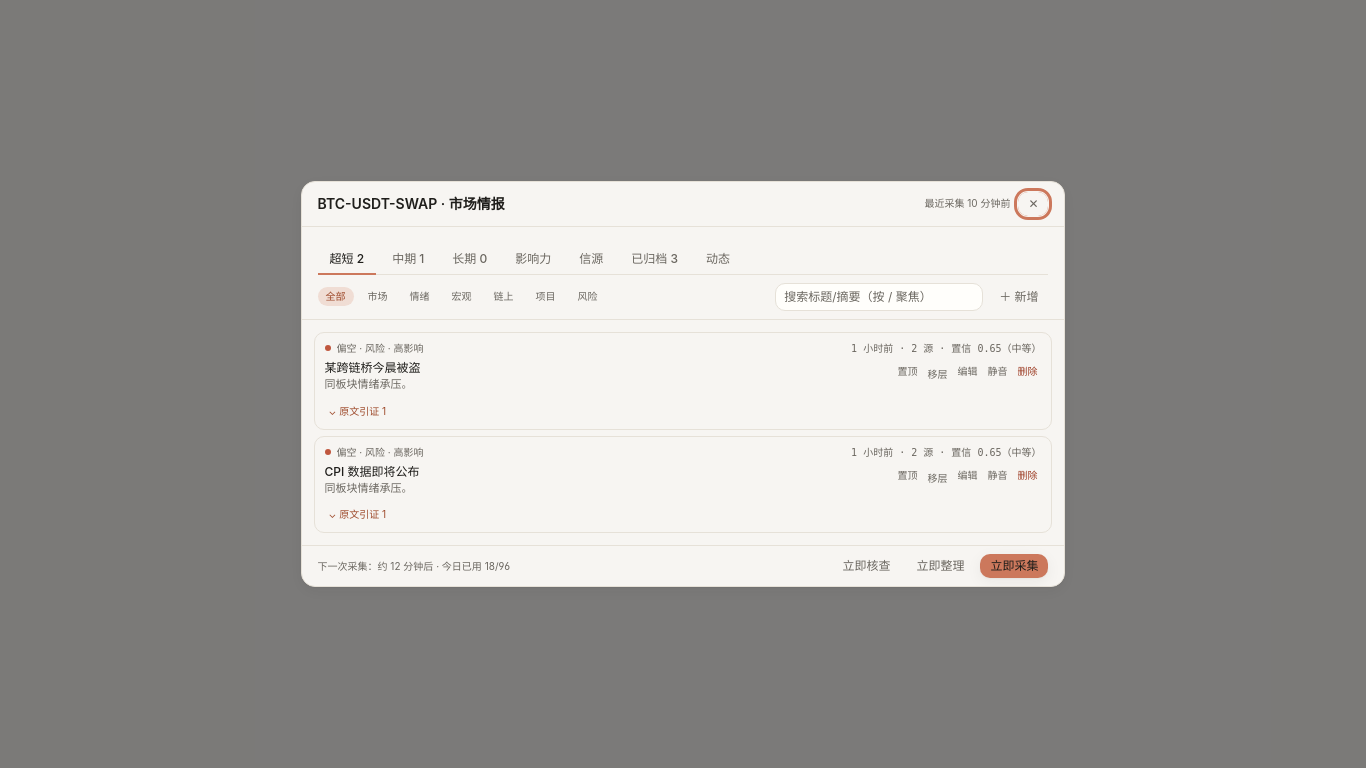
Scenario: IntelModal › 一条取证失败，不会把另一条的抽屉染成失败，也不会自己变成「没有引证」
Expected: the element with test id "intel-list" is shown, [302,320,1064,545]
Click the button with test id "intel-evidence-trigger".
click(357, 411)  # box [324,402,390,420]
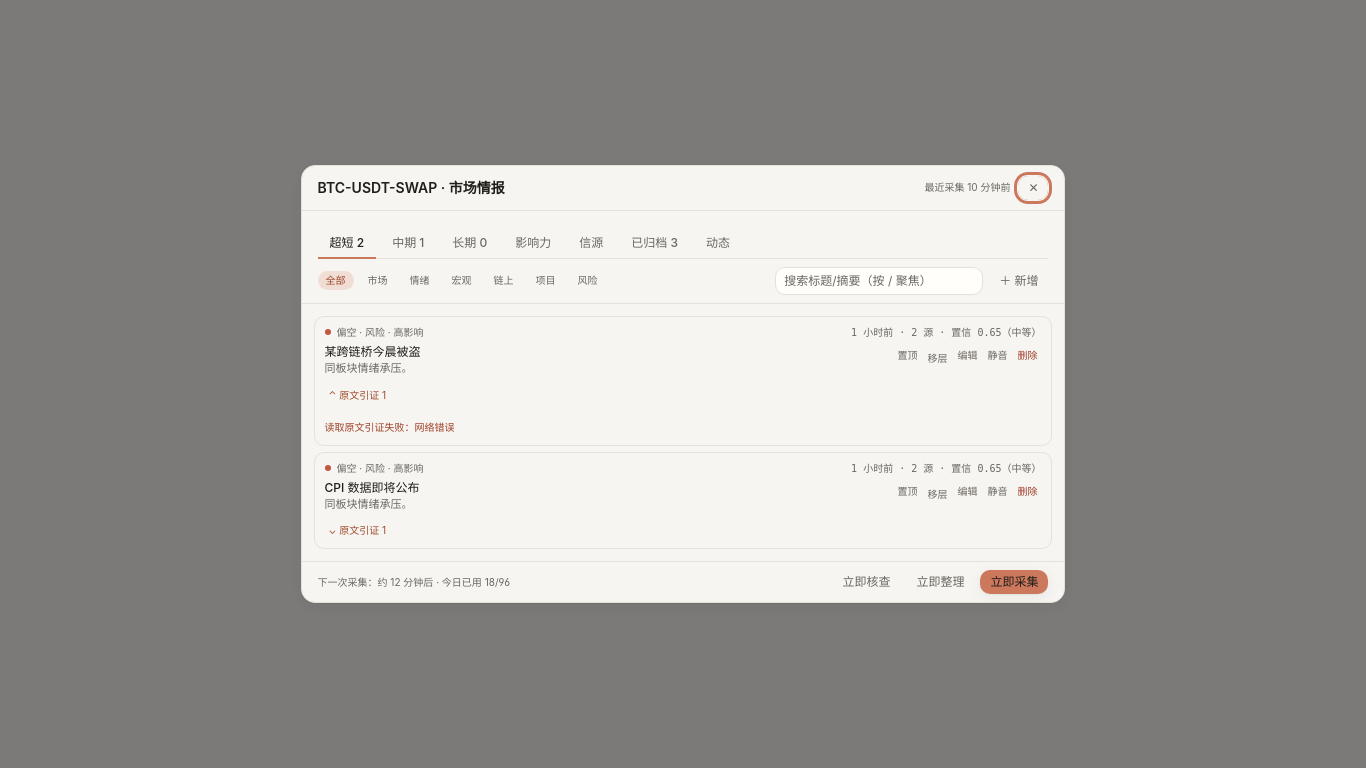
Result: the text "读取原文引证失败：网络错误" is shown at [324,420,454,432]
Click the button with test id "intel-evidence-trigger".
click(357, 531)  # box [324,521,390,540]
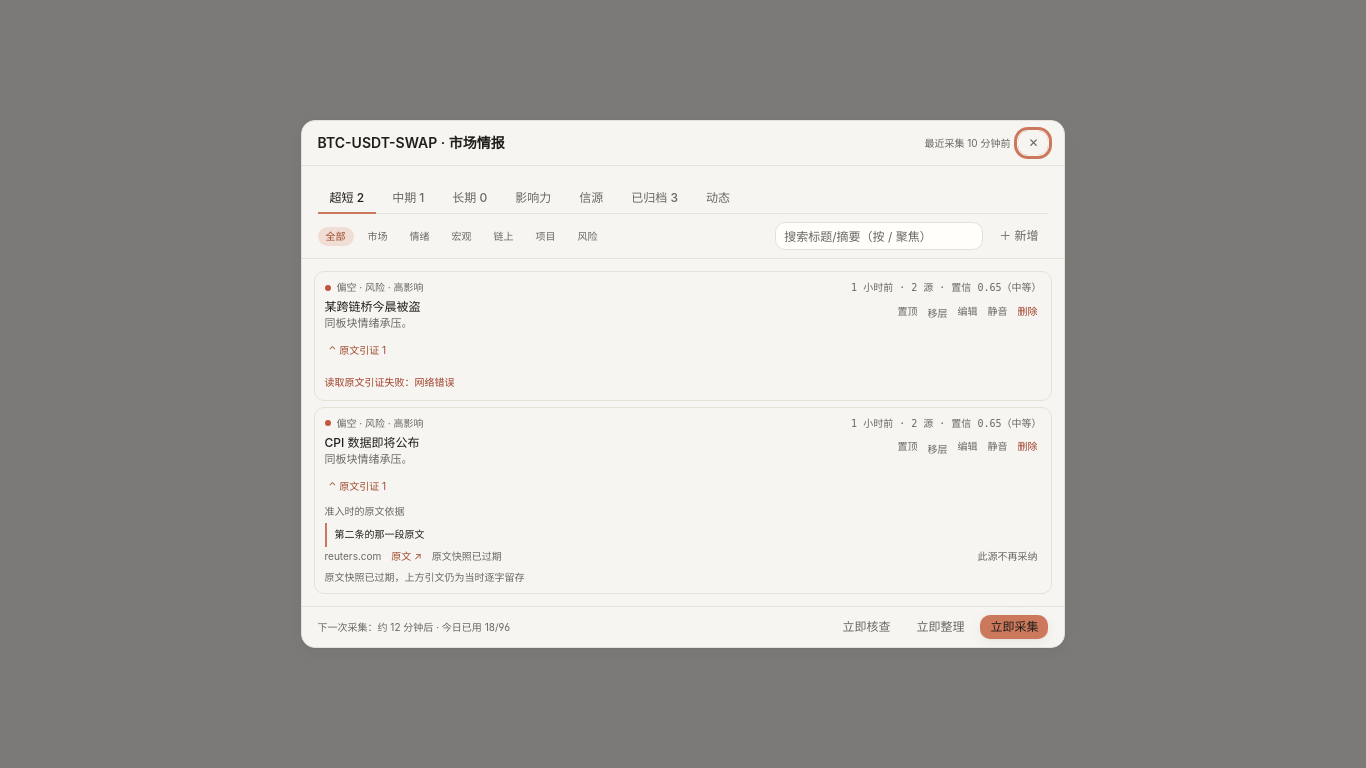
Result: the text "读取原文引证失败：网络错误" is shown at [324,376,454,388]
Result: the text "第二条的那一段原文" is shown at [324,523,1042,547]
